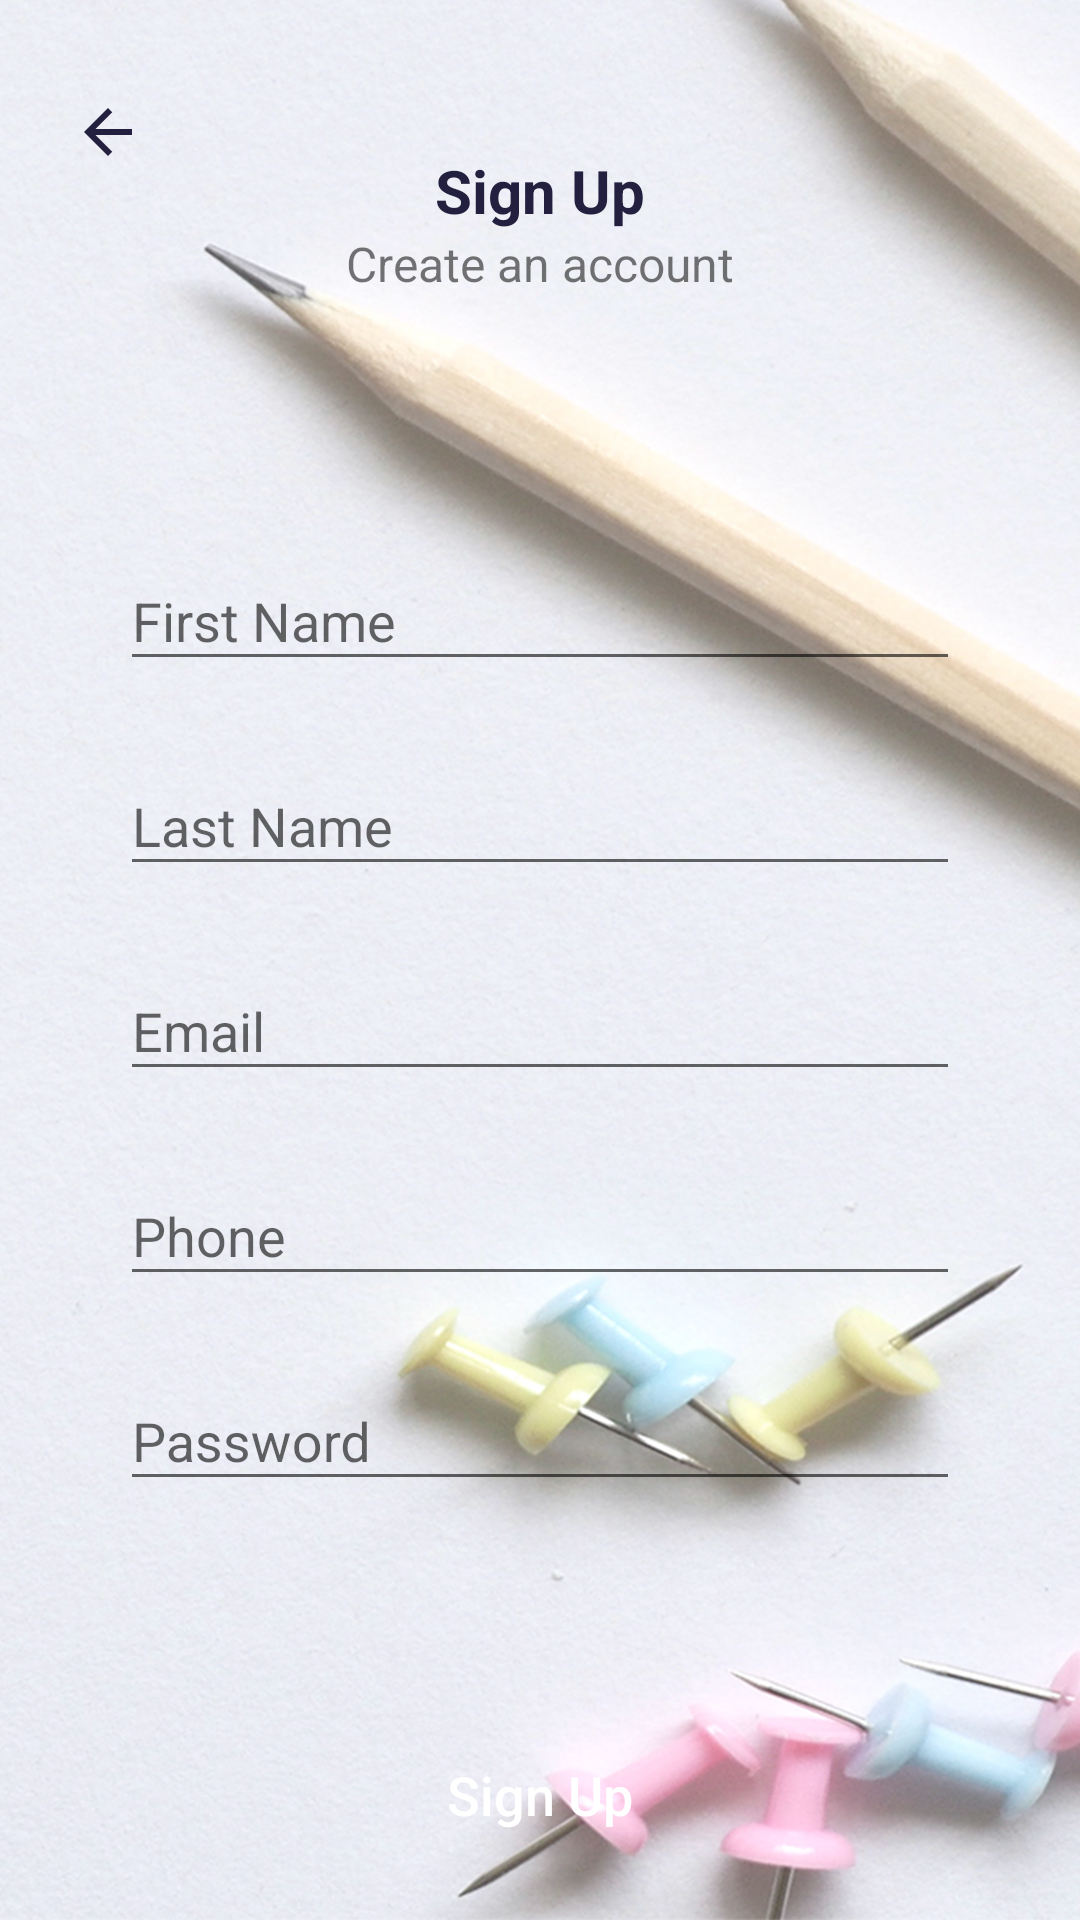

Where to tap for icons on this 1080 × 1920 app screen, as (x,y):
arrow back: (108,132)
